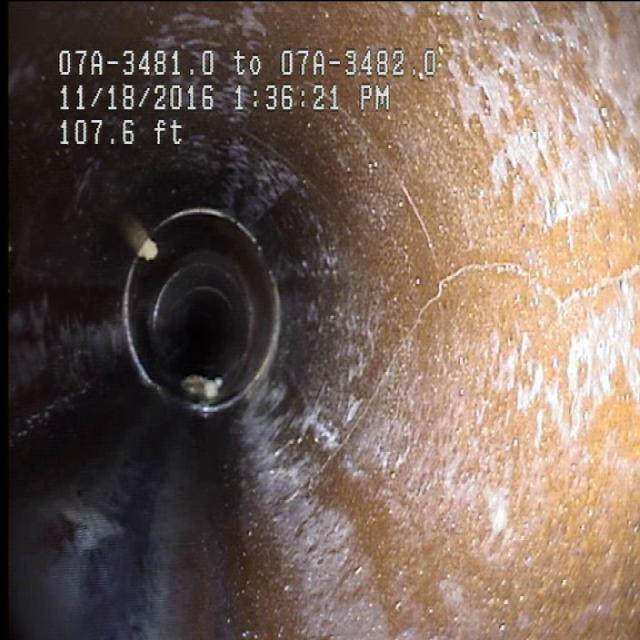Crack: (355, 180, 640, 476)
